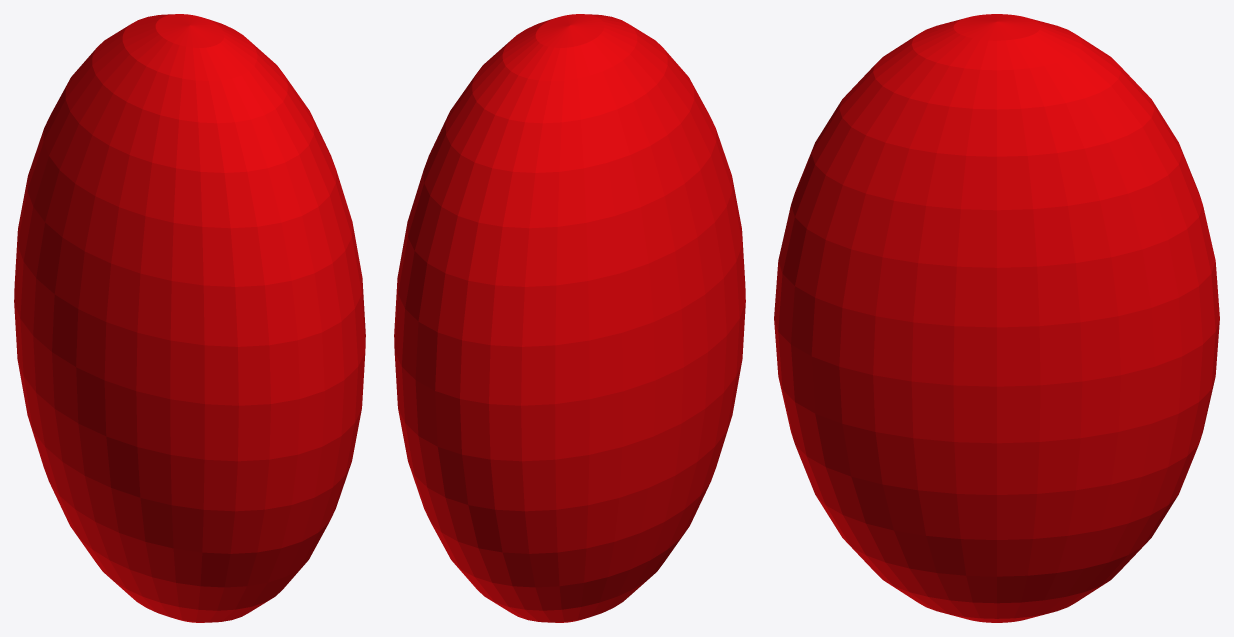
Rendered from enemymodel.fbx.
3 views of the same model, side by side, from view 1: azimuth 30°, elevation 25°; view 2: azimuth 150°, elevation 25°; view 3: azimuth 270°, elevation 25° (orthographic).
Parts seen in each view (by area): view 1: Sphere; view 2: Sphere; view 3: Sphere.
Boxes of the visible parts, x1,y1,x2,y2 form: Sphere: (14, 14, 365, 622); Sphere: (394, 14, 745, 622); Sphere: (774, 14, 1219, 622).
Bounding box in the file's own units: 73.72 × 150 × 102.
